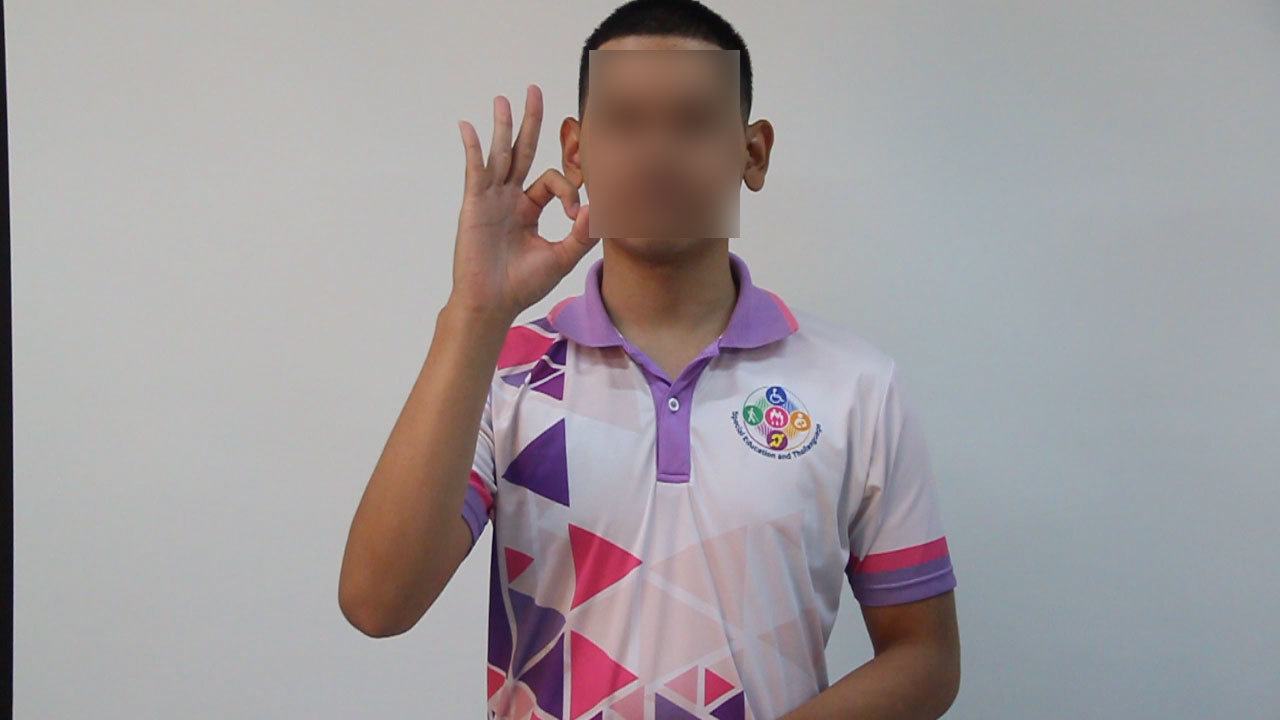for: (423, 73, 609, 330)
